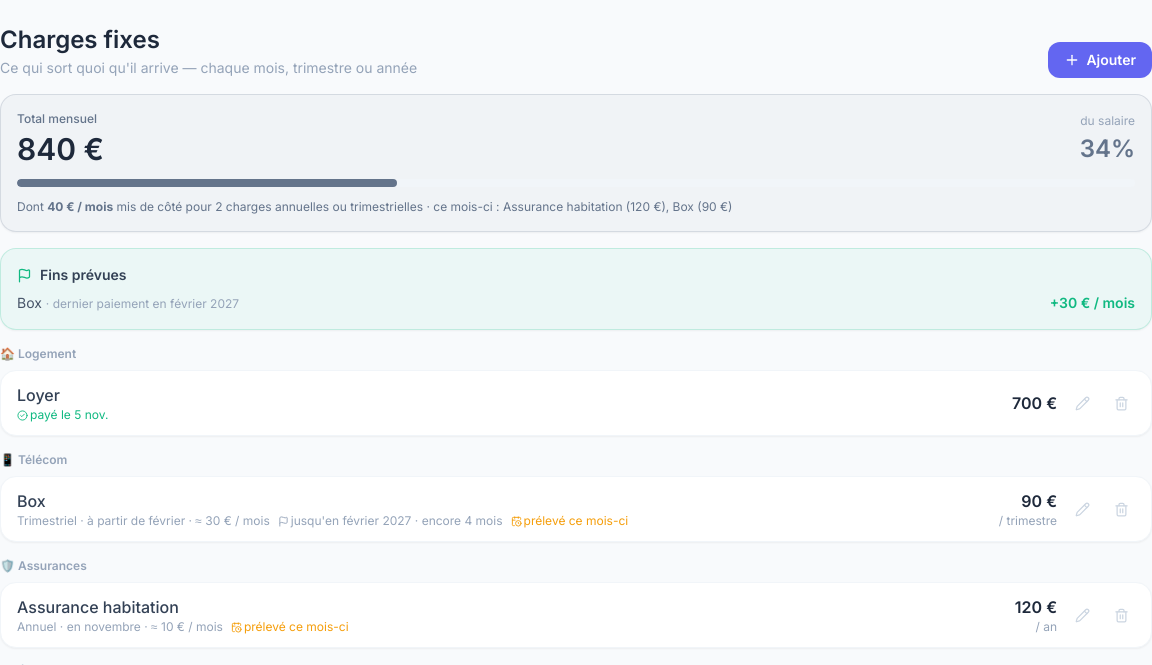
Test: Charges fixes › ajouter, modifier, supprimer une charge
Later steps or results of the test are not shown.
Step 1. Click the button "Ajouter" → (1100, 60), box [1048,42,1151,78]
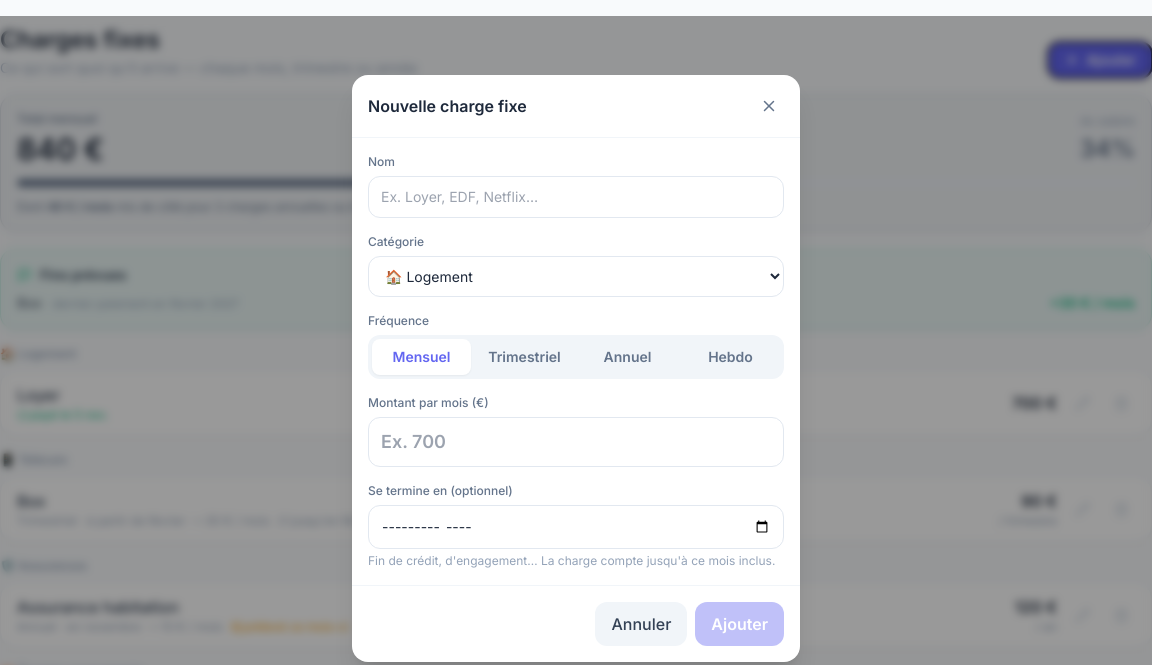
Step 2. Type "Netflix" into the field with placeholder "Ex. Loyer, EDF, Netflix…" → (576, 196), box [368,176,784,218]
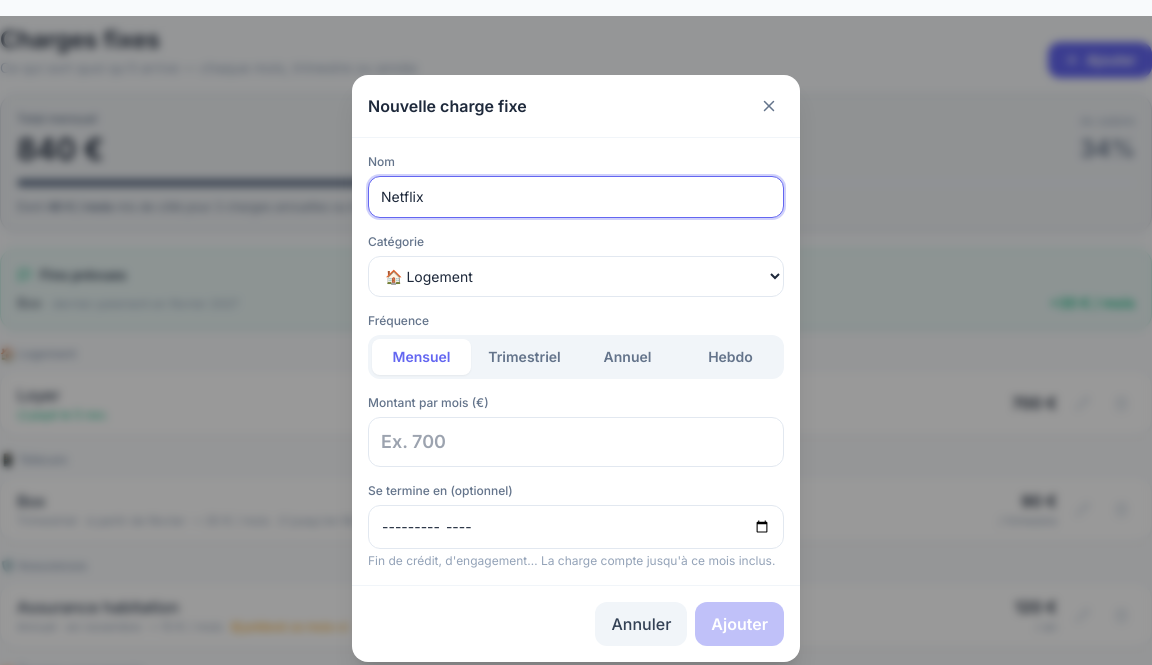
Step 3. Click the button "Annuel" → (628, 356), box [578,338,677,374]
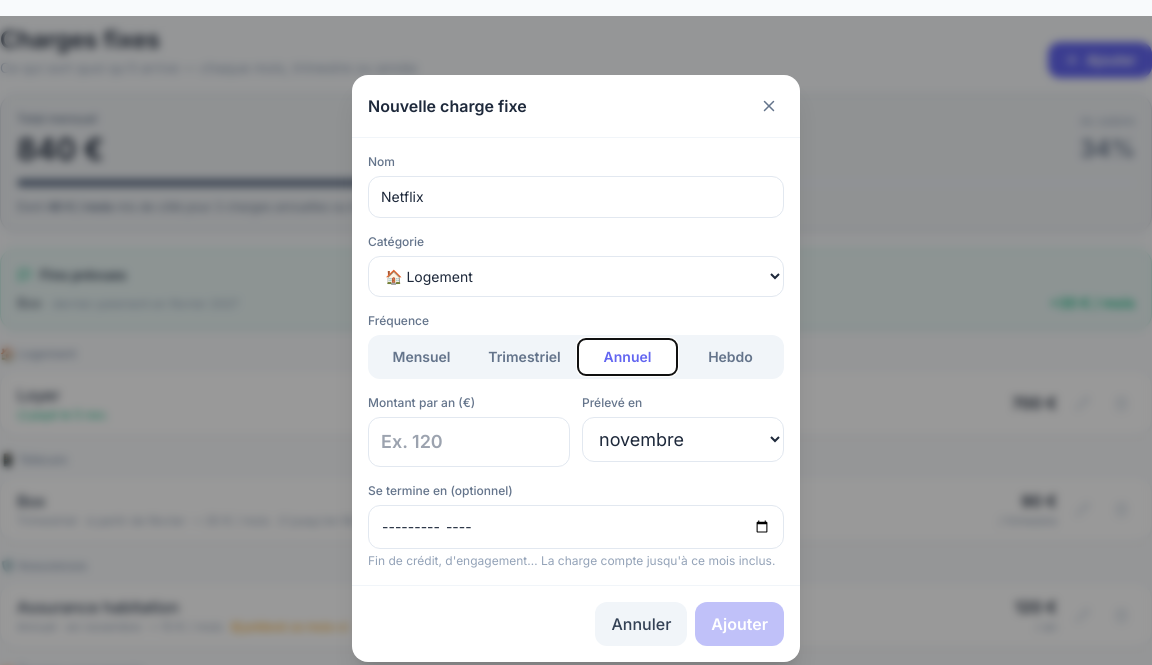
Step 4. Type "99" into the number field with placeholder "Ex. 120" → (469, 442), box [368,416,570,466]
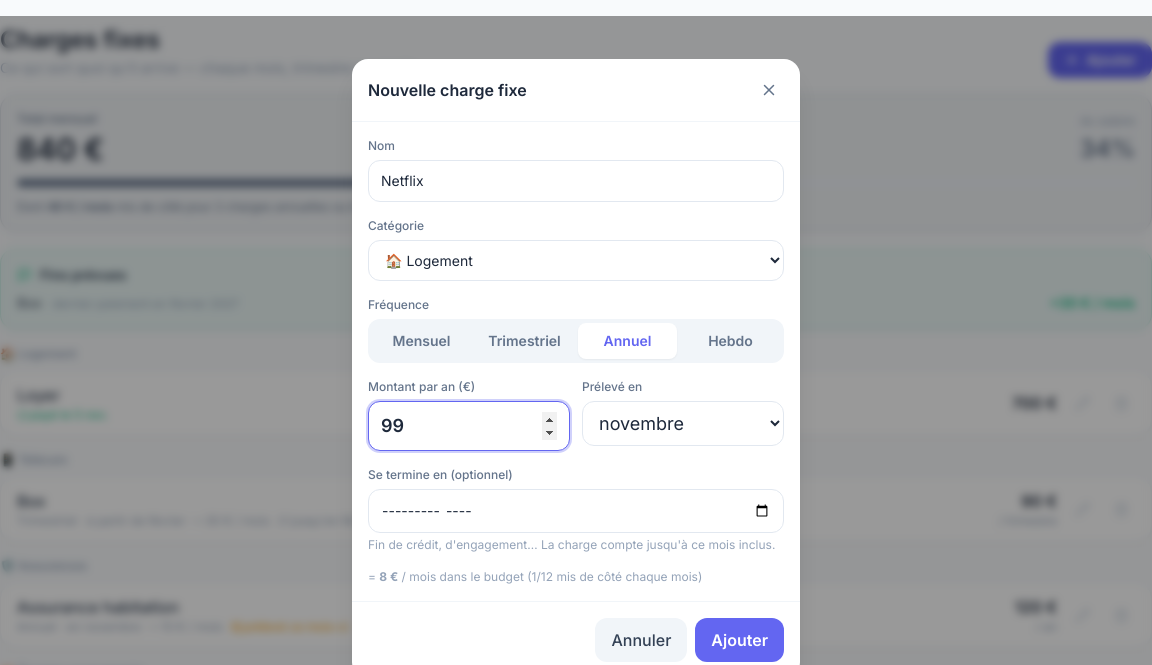
Step 5. Click the button "Ajouter" → (740, 640), box [695,618,784,662]
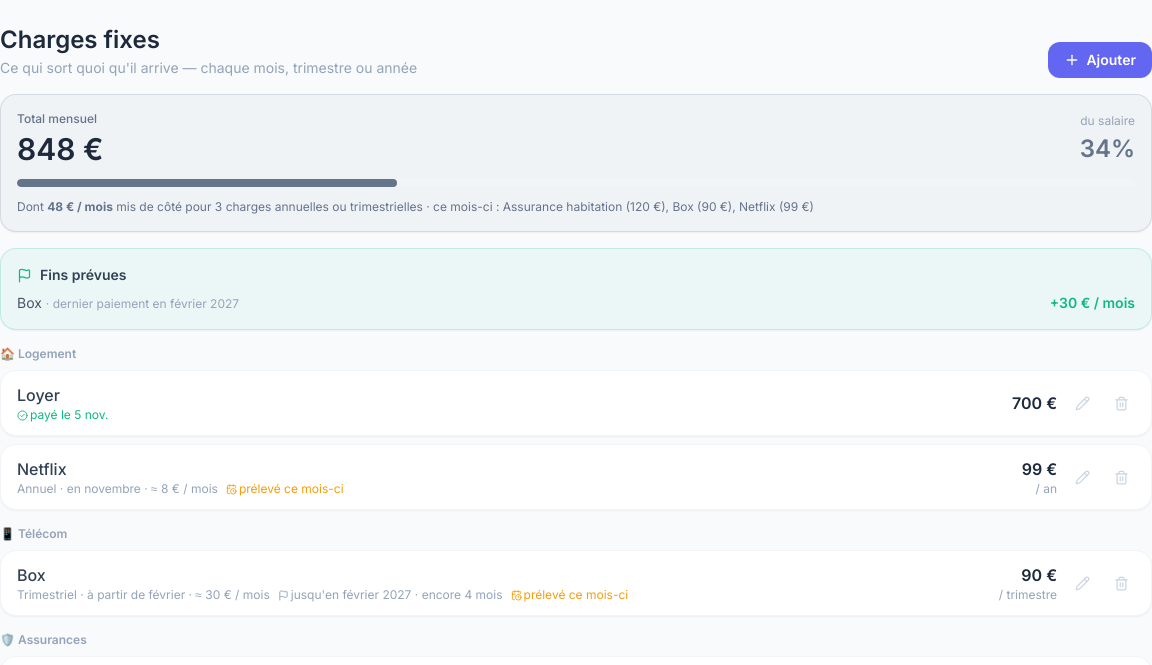
Step 6. Click the 2nd button → (1082, 403), box [1069,390,1096,416]
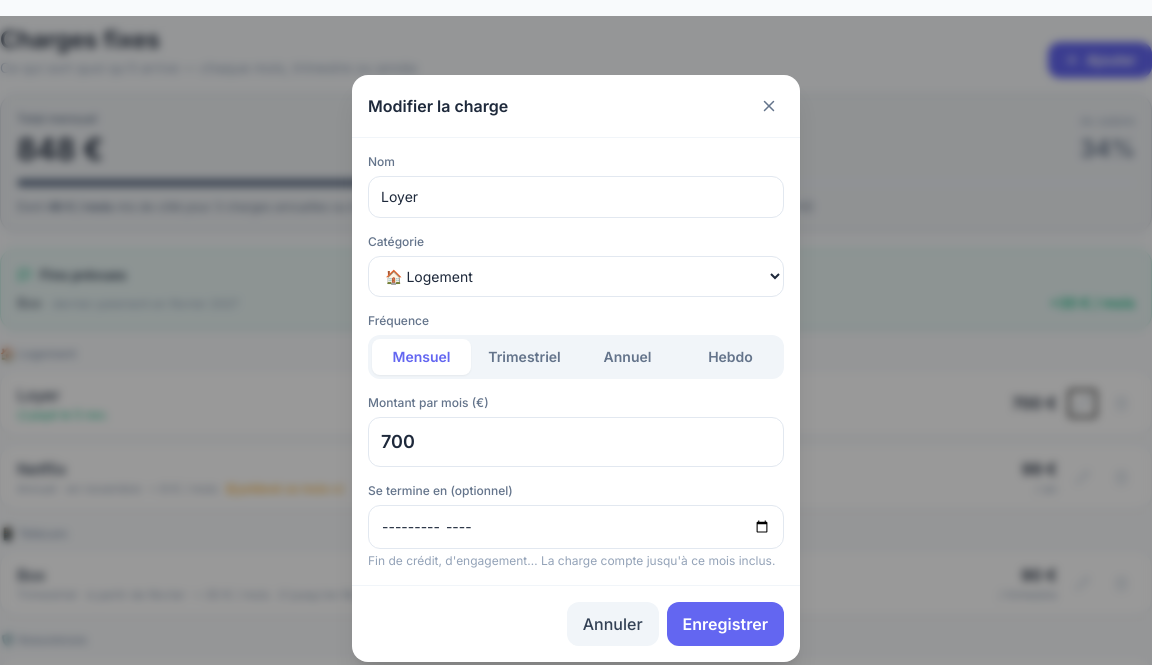
Check: the field below "Nom" holds "Loyer", box [368,176,784,218]
